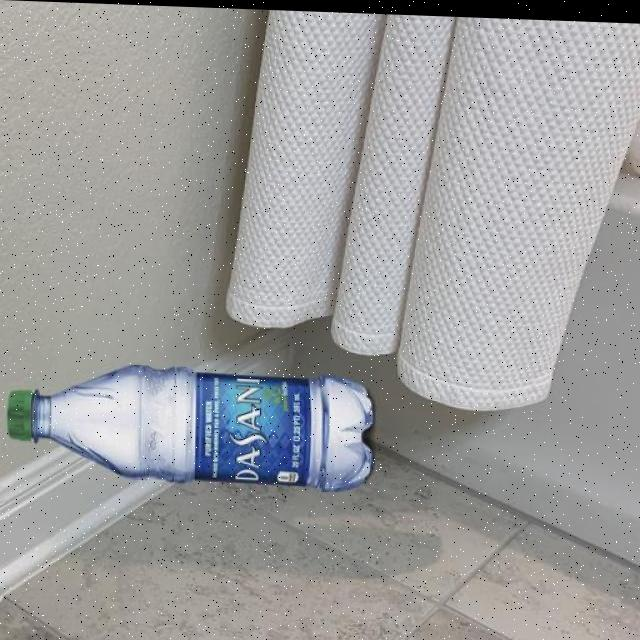bottle: (6, 358, 375, 491)
